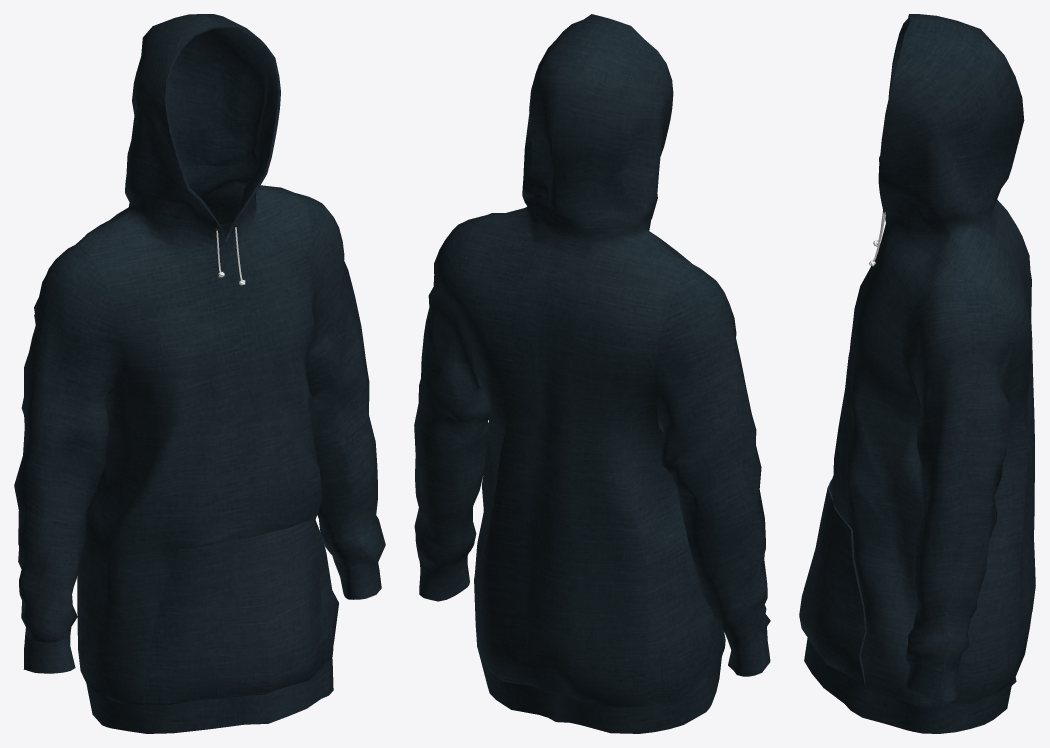
File: hoodie.gltf
3 renders of one model, left to right at view 1: azimuth 30°, elevation 25°; view 2: azimuth 150°, elevation 25°; view 3: azimuth 270°, elevation 25°, orthographic. The views are drawn at different scales.
Parts seen in each view (by area): view 1: Body_lp, bottom_cuff, sleeve_cuffs; view 2: Body_lp, bottom_cuff, sleeve_cuffs; view 3: Body_lp, bottom_cuff, sleeve_cuffs.
Boxes of the visible parts, <box> form: Body_lp: <box>14,14,385,704</box>; bottom_cuff: <box>86,642,333,733</box>; sleeve_cuffs: <box>23,562,381,673</box>; Body_lp: <box>414,14,770,707</box>; bottom_cuff: <box>480,657,721,733</box>; sleeve_cuffs: <box>419,557,770,676</box>; Body_lp: <box>799,14,1035,708</box>; bottom_cuff: <box>804,638,1016,733</box>; sleeve_cuffs: <box>906,661,958,701</box>.
Size of the model in its own units: 4.27 by 7.77 by 2.51.
4 materials, 2 textured.
